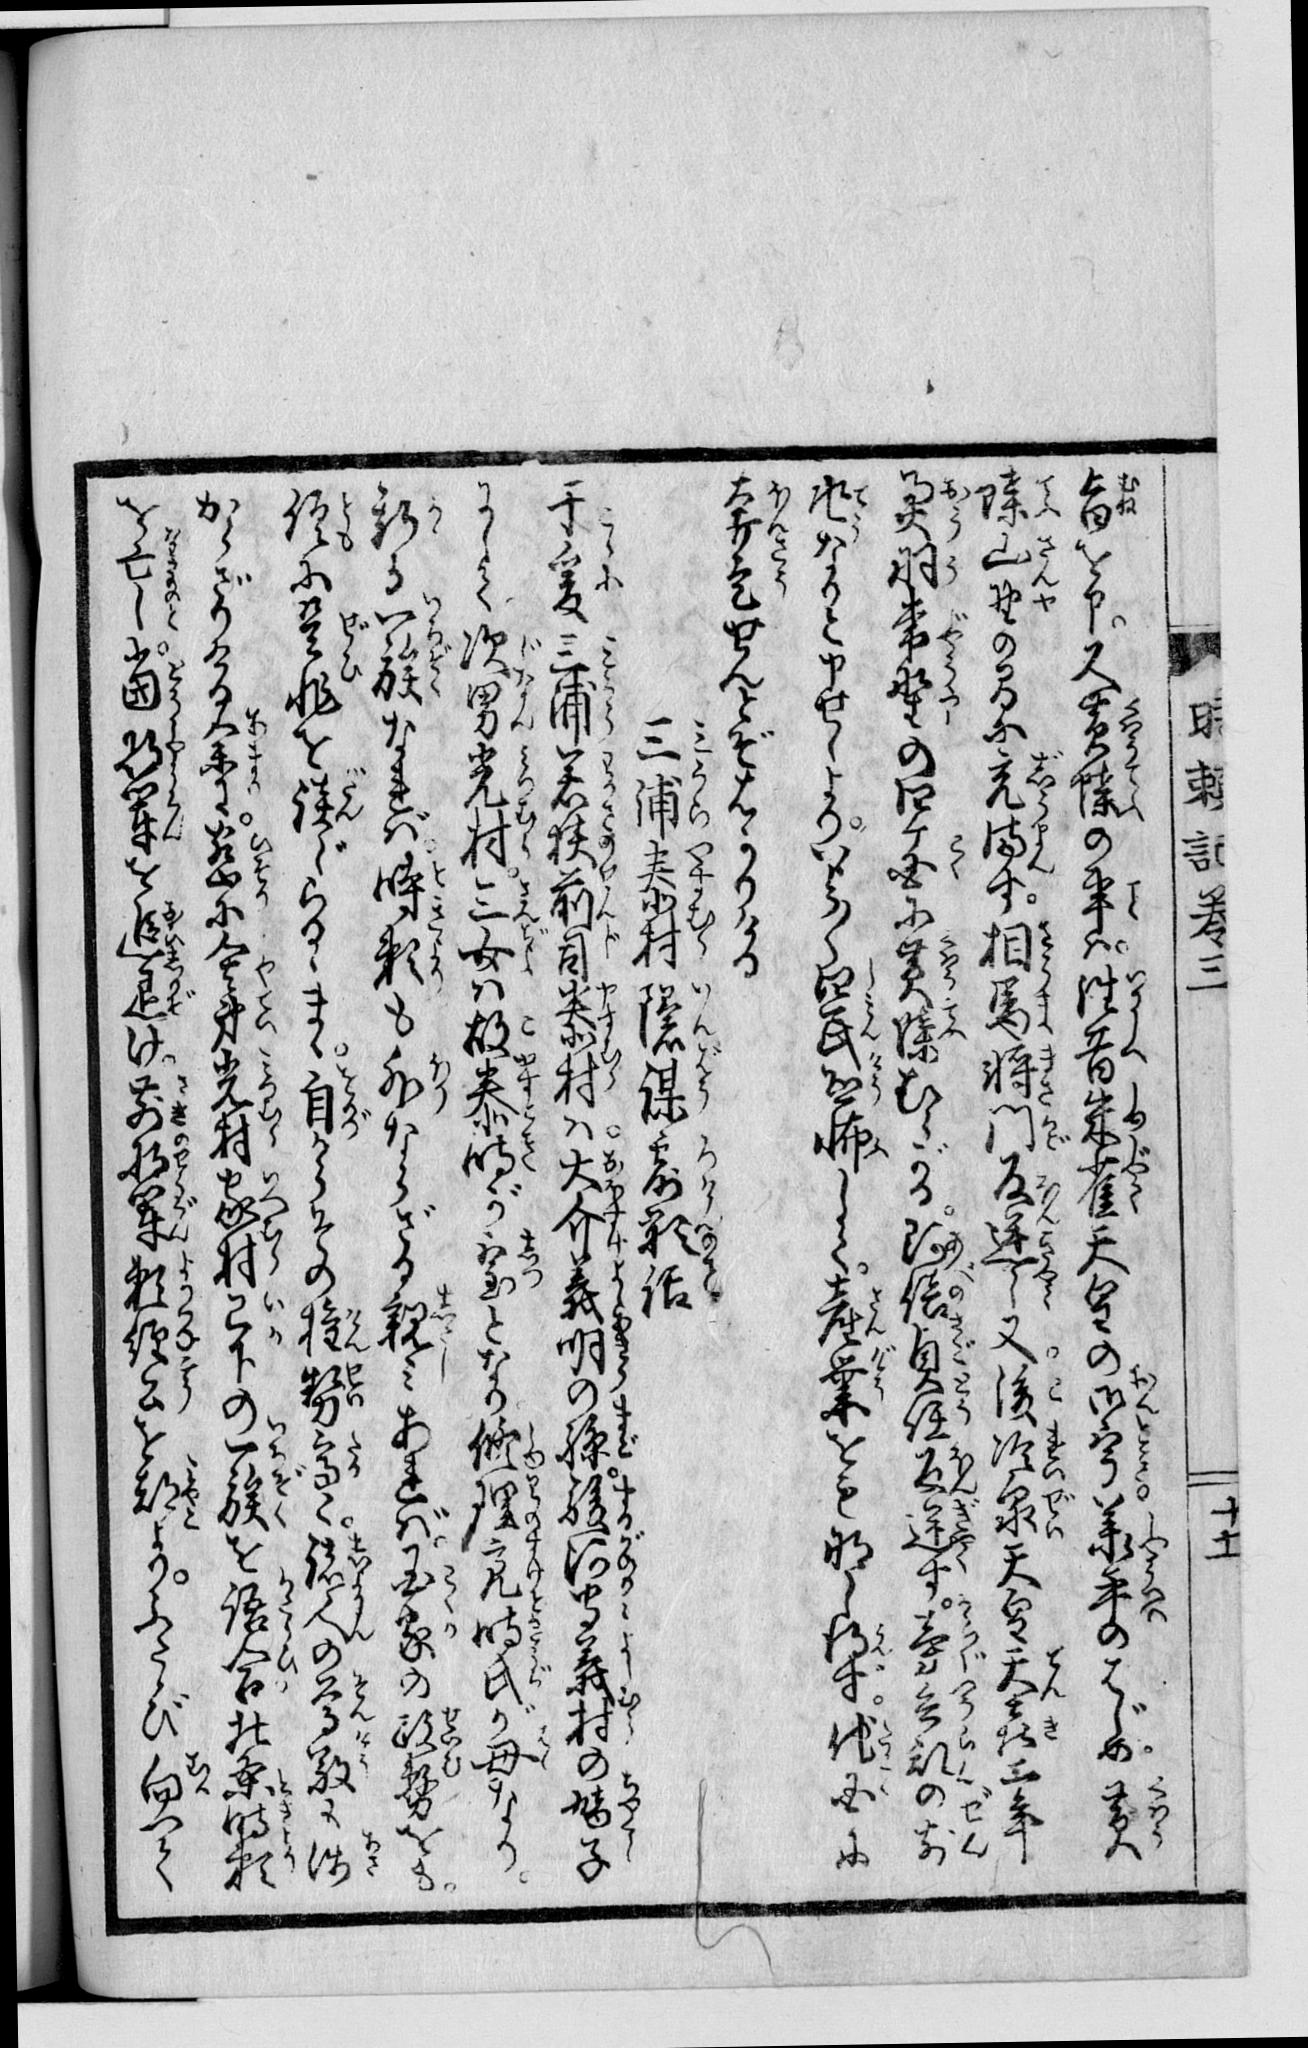MainZone-Character: (912, 1779, 1000, 1876), (118, 522, 191, 639), (1089, 1775, 1178, 1867), (980, 1223, 1069, 1314), (812, 1340, 902, 1429), (632, 1045, 724, 1130), (375, 1284, 460, 1375), (1071, 1137, 1159, 1223), (888, 463, 977, 546), (373, 849, 451, 940), (130, 1454, 212, 1539), (458, 1054, 545, 1133), (627, 758, 718, 833), (279, 760, 370, 833), (1068, 757, 1160, 828), (635, 887, 715, 969), (194, 709, 272, 794), (360, 482, 454, 552), (641, 1128, 720, 1211), (545, 1318, 638, 1388), (978, 746, 1066, 819), (1080, 1494, 1171, 1564), (214, 1463, 305, 1533), (1075, 1363, 1168, 1432), (1074, 1430, 1163, 1500), (1071, 460, 1151, 537), (469, 1224, 546, 1305), (457, 734, 539, 811), (206, 821, 279, 906), (630, 979, 724, 1045), (908, 1596, 987, 1673), (113, 634, 190, 715), (370, 1045, 455, 1115), (902, 1311, 981, 1385), (985, 1152, 1066, 1226), (544, 475, 627, 545), (878, 664, 969, 728), (554, 1396, 639, 1464), (279, 482, 357, 557), (975, 466, 1063, 531), (367, 643, 455, 709), (896, 1373, 978, 1443), (463, 1473, 546, 1542), (360, 931, 443, 1000), (814, 1272, 890, 1346), (903, 1494, 977, 1572), (887, 928, 968, 999), (1084, 1561, 1172, 1626), (1072, 866, 1154, 934), (281, 658, 366, 724), (549, 663, 624, 737), (721, 539, 799, 611), (1065, 697, 1151, 761), (1075, 1012, 1154, 1082), (544, 551, 632, 614), (218, 1640, 300, 1708), (549, 809, 627, 879), (302, 1061, 372, 1139), (106, 902, 197, 961), (887, 602, 974, 664), (978, 1040, 1060, 1106), (454, 811, 542, 872), (545, 739, 620, 811), (300, 1727, 376, 1797), (545, 1193, 630, 1255), (454, 925, 548, 982), (221, 1567, 300, 1635), (888, 999, 971, 1063), (642, 1255, 724, 1320), (708, 478, 796, 537), (555, 1469, 644, 1529), (885, 834, 975, 893), (558, 1532, 644, 1593), (455, 624, 541, 685), (119, 1352, 205, 1414), (115, 961, 200, 1023), (552, 1255, 632, 1321), (288, 597, 370, 660), (985, 1423, 1074, 1481), (991, 1481, 1077, 1540), (457, 1417, 546, 1473), (121, 1248, 206, 1308), (293, 1296, 373, 1358), (305, 1830, 385, 1893), (879, 542, 971, 597), (112, 719, 184, 790), (555, 1772, 644, 1829), (127, 1751, 215, 1808), (975, 920, 1060, 978), (455, 1127, 541, 1185), (206, 1108, 287, 1169), (1080, 1079, 1151, 1148), (549, 975, 621, 1043), (808, 1115, 894, 1172), (988, 1366, 1071, 1426), (809, 1049, 885, 1114), (124, 1185, 202, 1248), (981, 531, 1068, 587), (993, 1646, 1075, 1705), (113, 787, 190, 849), (905, 1726, 982, 1787), (203, 988, 287, 1045), (982, 976, 1057, 1039), (812, 1712, 902, 1764), (567, 1832, 644, 1893), (473, 1540, 549, 1602), (211, 1227, 288, 1287), (373, 593, 452, 651), (296, 1361, 367, 1426), (209, 1170, 294, 1224), (820, 1766, 902, 1821), (461, 870, 545, 924), (639, 1206, 723, 1260), (566, 1632, 641, 1691), (567, 1693, 648, 1748), (473, 1651, 555, 1705), (118, 1073, 196, 1130), (635, 706, 714, 761), (978, 821, 1062, 873), (208, 1048, 282, 1106), (803, 1002, 884, 1055), (113, 1131, 196, 1184), (478, 1726, 555, 1781), (299, 1530, 376, 1585), (978, 1105, 1065, 1154), (636, 839, 723, 888), (455, 685, 539, 736), (902, 1443, 982, 1496), (394, 1757, 464, 1817), (308, 1667, 378, 1727), (222, 1329, 294, 1387), (303, 1588, 376, 1645), (454, 1006, 541, 1054), (903, 1261, 980, 1315), (806, 478, 876, 536), (544, 1149, 632, 1196), (467, 1603, 555, 1649), (388, 1560, 466, 1612), (548, 869, 621, 924), (548, 921, 621, 976), (388, 1612, 463, 1666), (1074, 964, 1154, 1014), (217, 1417, 294, 1467), (552, 1046, 620, 1105), (808, 949, 884, 1000), (817, 1614, 896, 1661), (218, 1846, 297, 1894), (981, 584, 1065, 628), (217, 1799, 297, 1845), (909, 1676, 984, 1726), (127, 1309, 205, 1354), (209, 937, 284, 984), (305, 1432, 369, 1485), (391, 1711, 467, 1755), (990, 1715, 1071, 1755), (224, 1754, 296, 1799), (1078, 588, 1135, 640), (551, 627, 629, 664), (567, 1588, 636, 1630), (217, 1291, 287, 1329)
MainZone-Ruby: (1027, 746, 1065, 821), (266, 1464, 306, 1533), (962, 1785, 996, 1860), (160, 528, 184, 631), (239, 711, 269, 791), (954, 1599, 987, 1672), (1124, 1140, 1156, 1217), (176, 1457, 206, 1536), (514, 1052, 545, 1127), (432, 1285, 458, 1372), (339, 1064, 369, 1142), (333, 766, 369, 830), (1033, 1229, 1062, 1308), (938, 473, 971, 540), (1129, 1364, 1162, 1430), (614, 1530, 647, 1596), (160, 963, 197, 1020), (691, 1046, 724, 1111), (687, 979, 720, 1042), (951, 1497, 981, 1566), (693, 1131, 720, 1206), (246, 828, 272, 906), (591, 811, 621, 876), (612, 1396, 642, 1461), (685, 890, 714, 958), (684, 761, 711, 831), (420, 593, 451, 652), (158, 902, 191, 958), (515, 1226, 545, 1287), (1138, 1567, 1169, 1626), (1042, 1487, 1077, 1539), (1147, 1775, 1172, 1845), (1120, 1015, 1153, 1069), (509, 631, 542, 685), (512, 740, 538, 809), (1027, 821, 1059, 876), (602, 1191, 629, 1255), (1133, 1511, 1169, 1558), (1120, 696, 1148, 755), (169, 1185, 199, 1242), (429, 858, 449, 939), (160, 715, 184, 785), (1033, 1167, 1063, 1223), (514, 809, 544, 864), (938, 611, 969, 663), (252, 988, 284, 1040), (518, 922, 551, 972), (868, 1343, 896, 1400), (426, 1054, 454, 1111), (1123, 763, 1150, 822), (608, 1257, 633, 1320), (272, 1572, 297, 1635), (682, 839, 715, 887), (161, 790, 190, 845), (862, 1282, 888, 1340), (175, 1355, 202, 1414), (343, 1532, 373, 1584), (511, 875, 542, 924), (1036, 1042, 1060, 1106), (1039, 1648, 1068, 1702), (591, 499, 620, 552), (618, 1770, 645, 1827), (346, 1669, 375, 1723), (612, 1321, 635, 1388), (939, 664, 963, 727), (941, 1002, 972, 1049), (418, 939, 449, 987), (1115, 467, 1144, 519), (1035, 470, 1063, 522), (597, 667, 620, 733), (257, 1173, 288, 1220), (611, 1473, 638, 1527), (617, 1685, 644, 1739), (346, 1593, 373, 1646), (258, 1229, 285, 1282), (179, 1752, 209, 1800), (524, 1473, 545, 1540), (173, 1249, 199, 1305), (1032, 978, 1056, 1036), (1033, 536, 1063, 582), (334, 487, 355, 552), (167, 1311, 200, 1352), (938, 933, 960, 994), (596, 978, 618, 1039), (1042, 1426, 1069, 1476), (342, 1308, 369, 1358), (169, 1134, 196, 1185), (956, 1727, 980, 1784), (358, 1832, 387, 1879), (524, 1542, 545, 1606), (339, 608, 369, 652), (764, 484, 791, 533), (700, 1260, 727, 1309), (767, 537, 791, 593), (349, 1727, 376, 1775), (953, 1373, 975, 1430), (597, 1149, 629, 1190), (684, 717, 714, 758), (596, 746, 617, 806), (424, 651, 448, 703), (948, 1446, 975, 1493), (164, 658, 187, 714), (509, 688, 538, 731), (254, 1052, 279, 1100), (169, 1078, 193, 1128), (1120, 1085, 1147, 1130), (593, 560, 623, 600), (950, 1318, 974, 1367), (1039, 1114, 1069, 1152), (948, 1263, 977, 1303), (953, 1679, 981, 1720), (255, 1111, 284, 1151), (945, 836, 969, 884), (437, 1563, 461, 1611), (343, 1363, 367, 1411), (1123, 876, 1148, 921), (440, 1703, 463, 1754), (868, 1052, 887, 1111), (850, 484, 871, 537), (614, 1632, 641, 1673), (421, 494, 448, 536), (532, 1726, 555, 1772), (691, 1215, 720, 1254), (1130, 1436, 1156, 1479), (1036, 920, 1056, 975), (526, 1605, 549, 1649), (871, 1617, 896, 1658), (860, 993, 881, 1043), (521, 1418, 542, 1469), (600, 1046, 623, 1093), (597, 628, 623, 669), (527, 1652, 552, 1693), (264, 1418, 290, 1458), (343, 1432, 364, 1479), (596, 881, 618, 924), (1127, 969, 1153, 1006), (337, 657, 366, 690), (275, 1640, 299, 1679), (517, 1130, 538, 1172), (517, 1012, 544, 1042), (875, 1766, 900, 1797), (866, 1131, 890, 1163), (252, 952, 276, 984), (275, 1803, 294, 1841), (944, 551, 962, 591), (260, 1291, 287, 1318), (1045, 1373, 1066, 1408), (860, 955, 881, 988), (618, 1832, 639, 1864), (1033, 590, 1059, 616), (272, 1766, 294, 1796), (599, 925, 620, 957), (1041, 1718, 1066, 1743), (1108, 608, 1130, 636), (879, 1715, 893, 1758), (442, 1755, 464, 1779), (282, 1843, 297, 1875), (264, 1326, 284, 1349), (617, 1603, 633, 1629), (445, 1618, 457, 1643)
